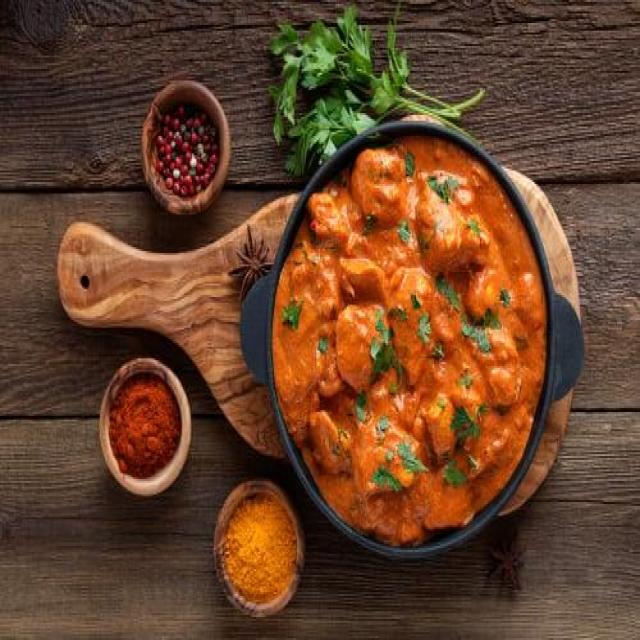chicken: (282, 133, 556, 559)
